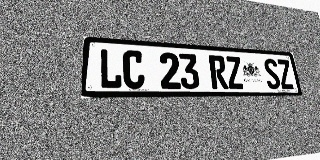2: (159, 52, 181, 89)
3: (179, 53, 200, 89)
C: (123, 50, 145, 89)
L: (99, 48, 122, 89)
R: (208, 55, 229, 89)
S: (263, 58, 281, 89)
Z: (225, 56, 245, 89), (276, 59, 295, 89)
